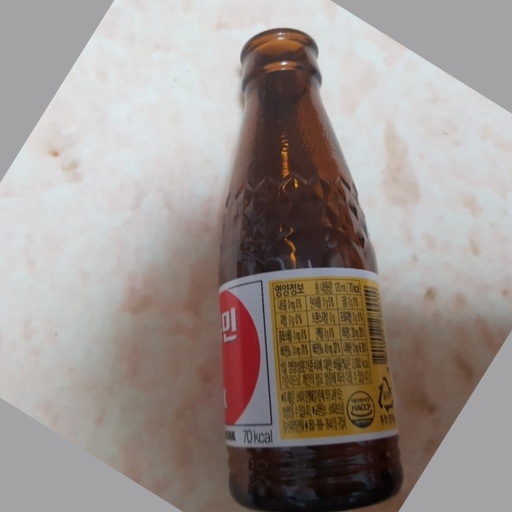Glass_3: (217, 25, 403, 512)
